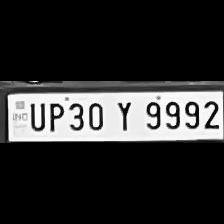0: (84, 99, 108, 131)
2: (200, 96, 220, 130)
3: (65, 99, 85, 131)
9: (140, 97, 164, 131), (162, 96, 182, 130), (180, 96, 200, 130)
P: (44, 98, 64, 132)
U: (25, 99, 45, 131)
Y: (112, 98, 136, 132)
